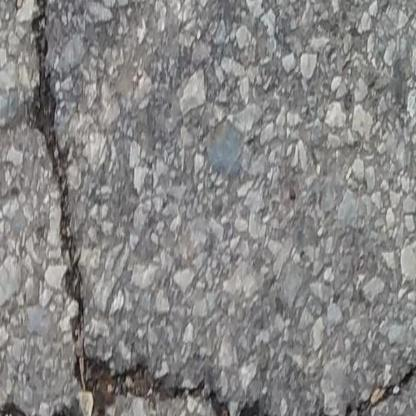Cracks: (0, 0, 277, 416), (314, 371, 416, 416)
